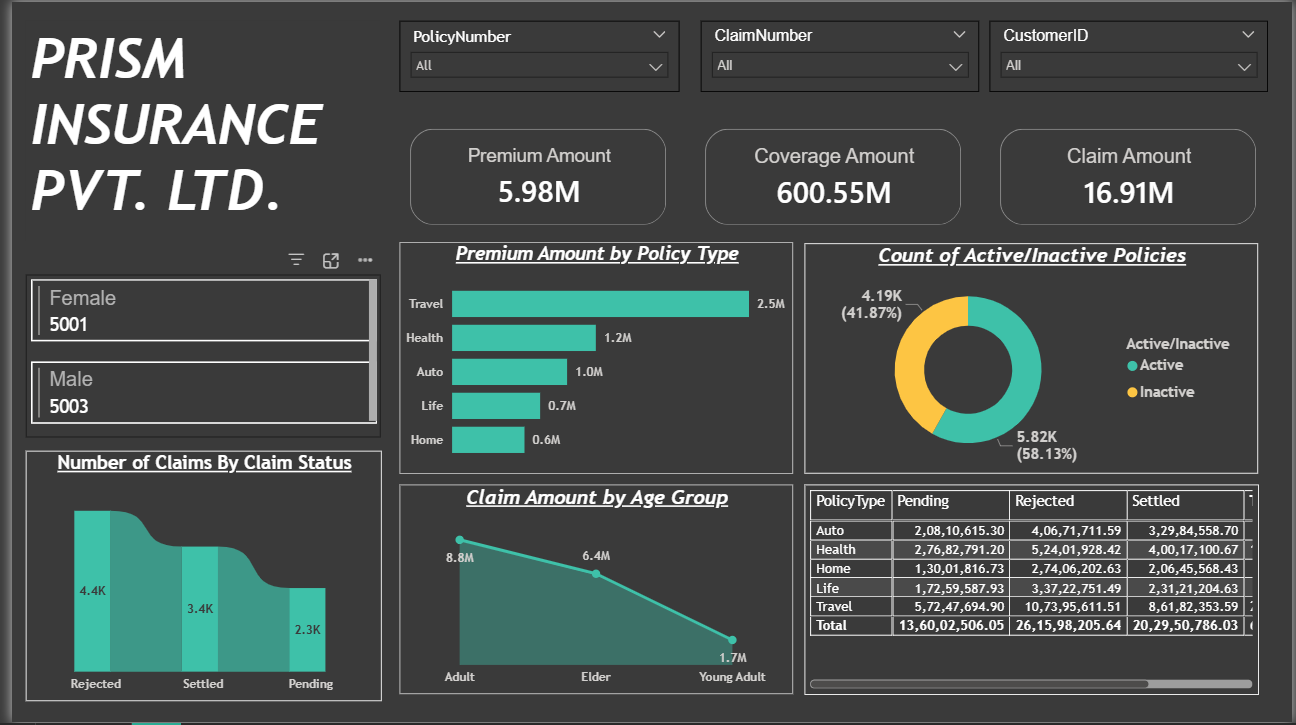

What the dashboard file says about the page in this screenshot:
{"tool":"powerbi","page":{"name":"Page 1","canvas":[1280,720],"ordinal":0},"visuals":[{"type":"slicer","fields":{"Values":["InsuranceData.PolicyNumber"]},"box":[387.7,18.4,279.8,71.2],"z":0},{"type":"slicer","fields":{"Values":["InsuranceData.ClaimNumber"]},"box":[688.3,18.4,278.5,71.2],"z":1000},{"type":"slicer","fields":{"Values":["InsuranceData.CustomerID"]},"box":[977.9,18.4,278.5,71.2],"z":2000},{"type":"textbox","box":[13.5,18.4,354.6,219.6],"z":3000},{"type":"cardVisual","fields":{"Data":["Sum(InsuranceData.PremiumAmount)"]},"box":[381.6,110.4,290.8,130.1],"z":4000},{"type":"cardVisual","fields":{"Data":["Sum(InsuranceData.CoverageAmount)"]},"box":[676.1,110.4,290.8,130.1],"z":5000},{"type":"cardVisual","fields":{"Data":["Sum(InsuranceData.ClaimAmount)"]},"box":[971.8,110.4,290.8,130.1],"z":6000},{"type":"multiRowCard","fields":{"Values":["InsuranceData.Gender","CountNonNull(InsuranceData.Gender)"]},"box":[13.5,272.4,355.8,163.2],"z":7000},{"type":"ribbonChart","title":"Number of Claims By Claim Status","fields":{"Category":["InsuranceData.ClaimStatus"],"Y":["CountNonNull(InsuranceData.ClaimStatus)"]},"box":[13.5,449.1,355.8,250.3],"z":8000},{"type":"barChart","title":"Premium Amount by Policy Type","fields":{"Category":["InsuranceData.PolicyType"],"Y":["Sum(InsuranceData.PremiumAmount)"]},"box":[387.7,240.5,393.9,231.9],"z":9000},{"type":"lineChart","title":"Claim Amount by Age Group","fields":{"Category":["InsuranceData.Age Group"],"Y":["Sum(InsuranceData.ClaimAmount)"]},"box":[387.7,482.2,393.9,209.8],"z":10000},{"type":"donutChart","title":"Count of Active/Inactive  Policies","fields":{"Category":["InsuranceData.Active/Inactive"],"Y":["CountNonNull(InsuranceData.Active/Inactive)"]},"box":[792.6,241.7,454,230.7],"z":11000},{"type":"pivotTable","fields":{"Values":["Sum(InsuranceData.CoverageAmount)"],"Columns":["InsuranceData.ClaimStatus"],"Rows":["InsuranceData.PolicyType"]},"box":[793,482,454,210],"z":12000}]}

Visuals, with their boxes in screenshot pixels (x1, y1, x2, y2), scaled from the page's 1280x720 canvas onto the 1296x725 screenshot:
slicer - InsuranceData.PolicyNumber: (393,19,676,90)
slicer - InsuranceData.ClaimNumber: (697,19,979,90)
slicer - InsuranceData.CustomerID: (990,19,1272,90)
textbox: (14,19,373,240)
cardVisual - Sum(InsuranceData.PremiumAmount): (386,111,681,242)
cardVisual - Sum(InsuranceData.CoverageAmount): (685,111,979,242)
cardVisual - Sum(InsuranceData.ClaimAmount): (984,111,1278,242)
multiRowCard - InsuranceData.Gender x CountNonNull(InsuranceData.Gender): (14,274,374,439)
"Number of Claims By Claim Status" ribbonChart: (14,452,374,704)
"Premium Amount by Policy Type" barChart: (393,242,791,476)
"Claim Amount by Age Group" lineChart: (393,486,791,697)
"Count of Active/Inactive  Policies" donutChart: (803,243,1262,476)
pivotTable - Sum(InsuranceData.CoverageAmount) x InsuranceData.ClaimStatus: (803,485,1263,697)
